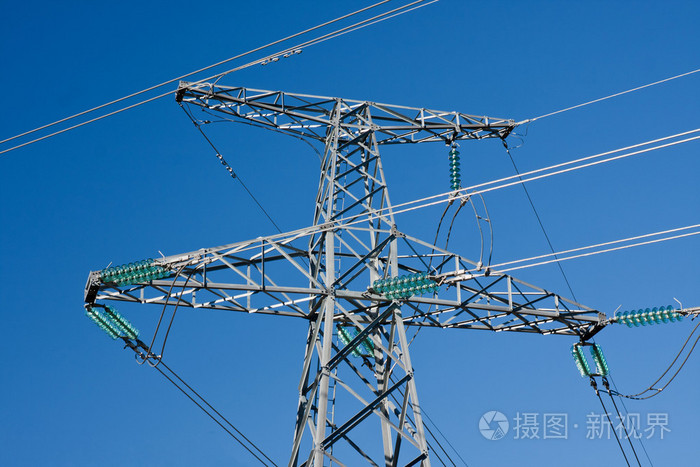insulator: (101, 258, 172, 289), (88, 307, 141, 340), (572, 339, 610, 378), (372, 273, 440, 294), (338, 324, 376, 358), (616, 307, 687, 325), (448, 147, 461, 189)
